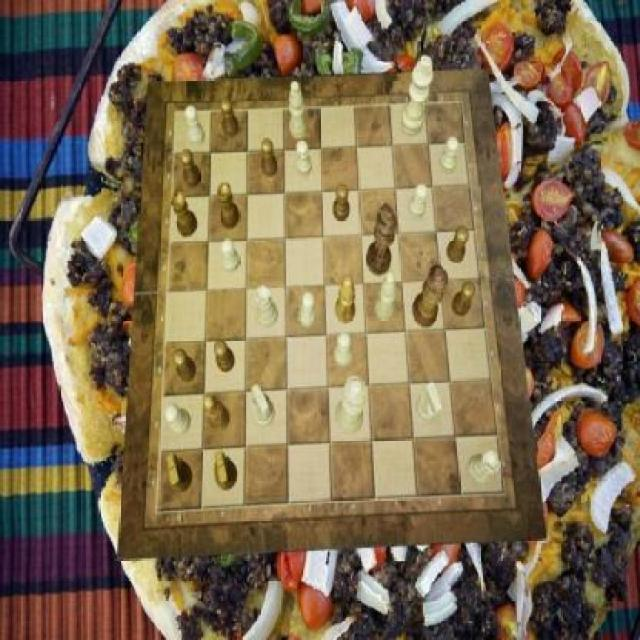bishop: (204, 395, 230, 433), (336, 277, 356, 325)
black-bishop: (366, 203, 399, 277)
black-king: (166, 454, 192, 494), (216, 451, 238, 491)
black-knight: (446, 226, 469, 262), (452, 282, 476, 316), (182, 149, 202, 189), (174, 349, 197, 383), (220, 98, 239, 138), (216, 338, 236, 372), (262, 138, 278, 177), (334, 184, 351, 220)
black-pawn: (412, 265, 448, 327)
black-queen: (171, 191, 197, 236), (217, 183, 240, 229)
black-rook: (290, 82, 308, 140), (376, 271, 396, 320)
white-bishop: (400, 55, 433, 137)
white-king: (416, 383, 442, 423), (250, 385, 274, 427)
white-knight: (186, 105, 206, 146), (166, 405, 191, 437), (440, 137, 460, 175), (408, 184, 428, 220), (335, 332, 353, 367), (297, 139, 314, 176), (299, 292, 316, 328), (222, 238, 240, 272)
white-pawn: (335, 375, 368, 434)
white-queen: (468, 449, 500, 484), (256, 285, 278, 327)
